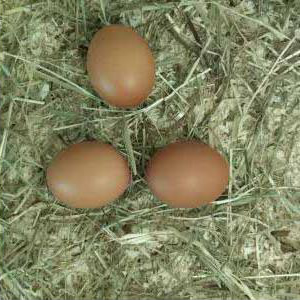egg: (45, 141, 132, 209), (87, 25, 157, 109), (145, 141, 229, 207)
